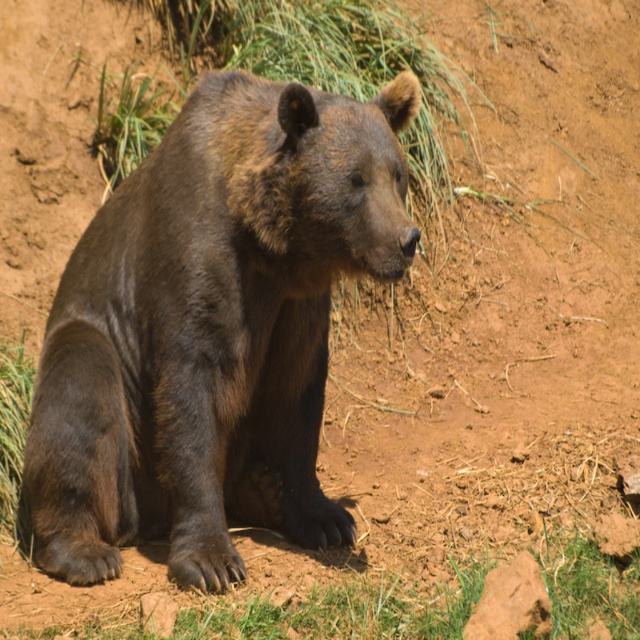Brown bear: (18, 68, 423, 596)
